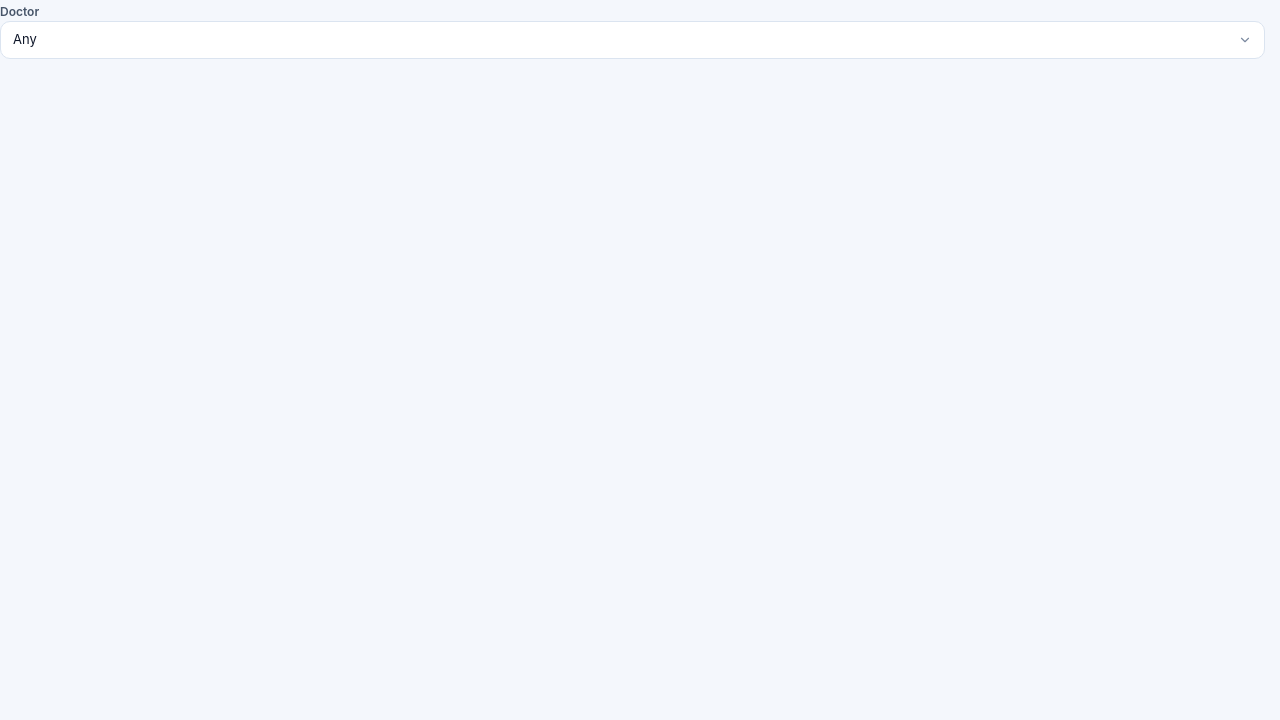
Test: keeps long lists searchable from a box inside the popup
Step 1. Click the dropdown named "Doctor" → point(25, 39), box [0, 21, 1265, 59]
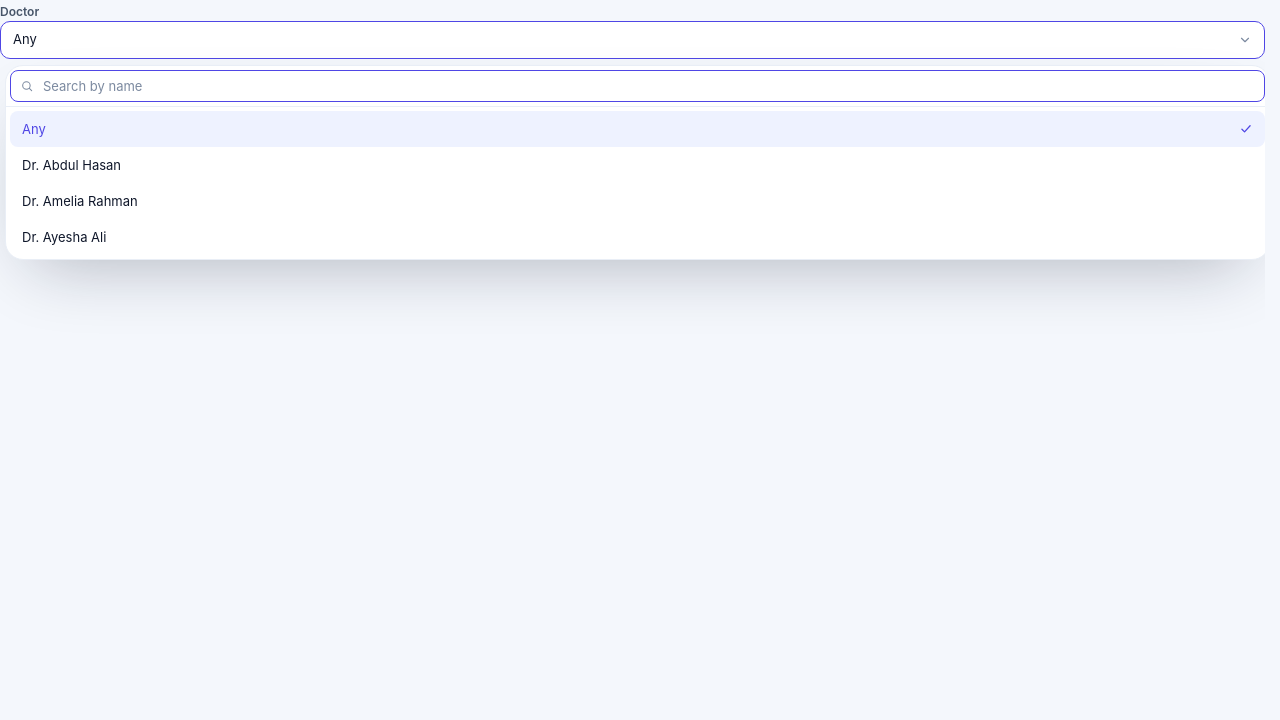
Step 2. Type "amelia" into the dropdown named "Search doctors" → point(638, 86), box [10, 70, 1265, 102]
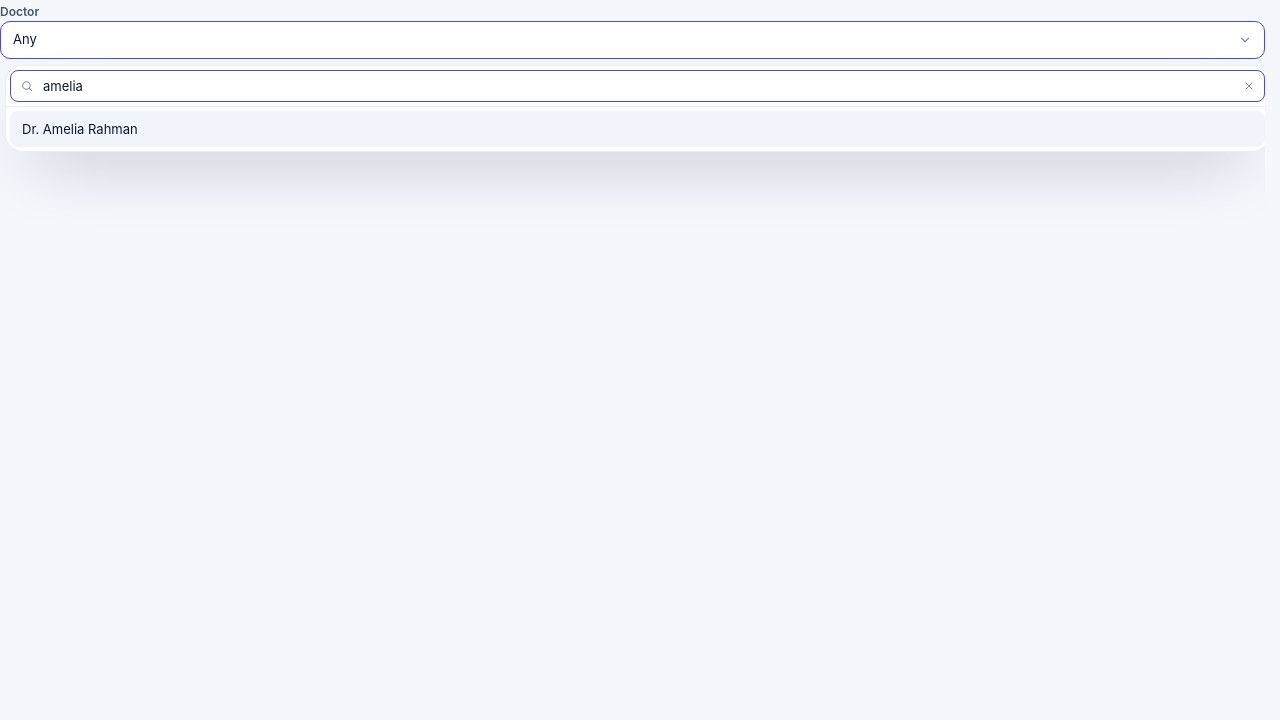
Check: the options read "Dr. Amelia Rahman", in this order, box [10, 111, 1265, 147]
